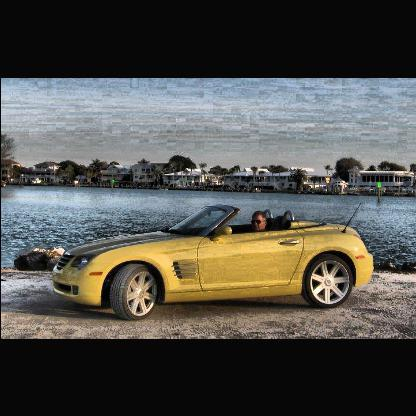Chrysler Crossfire Convertible 2008: (52, 205, 373, 322)
